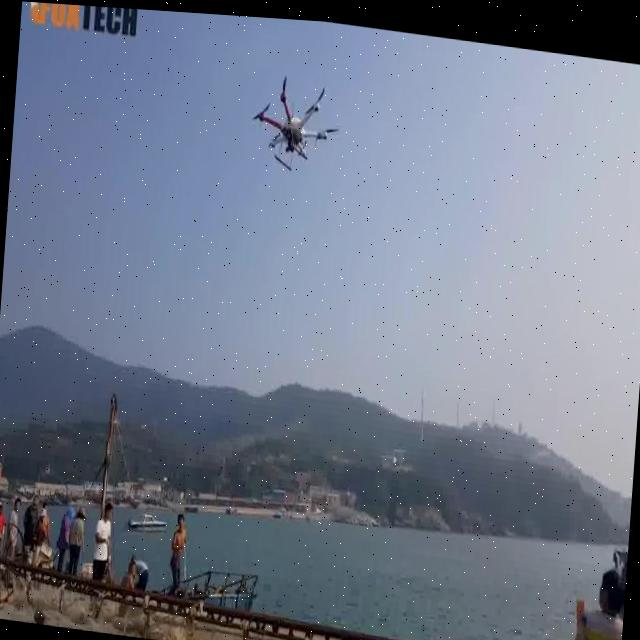drone: (248, 62, 338, 175)
